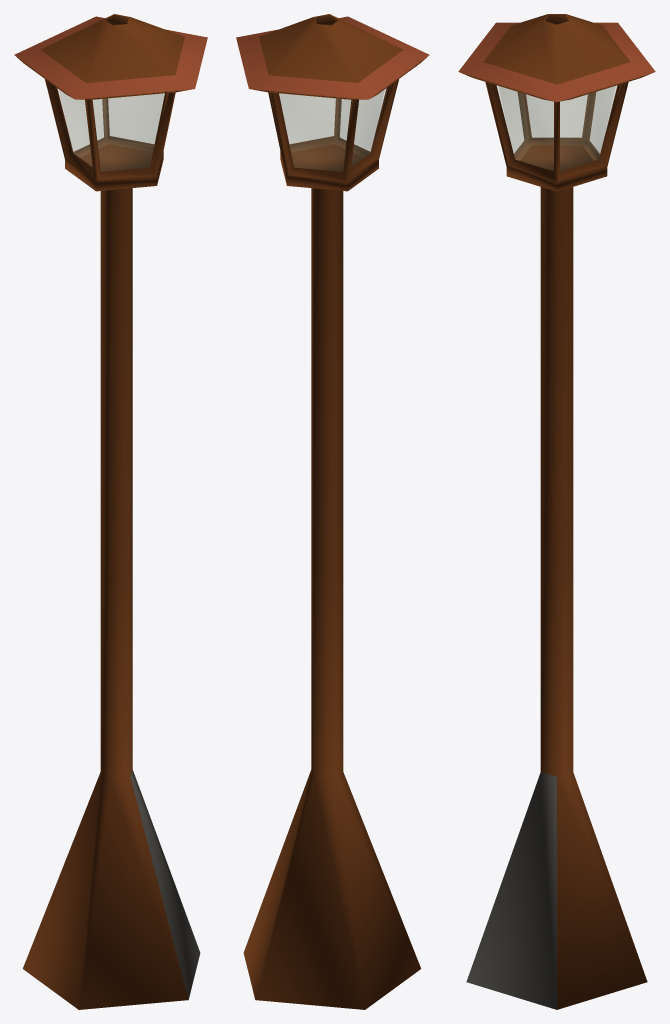
Rendered from lamp.obj.
The picture shows the model from 3 angles, left to right: view 1: azimuth 30°, elevation 25°; view 2: azimuth 150°, elevation 25°; view 3: azimuth 270°, elevation 25°; orthographic projection.
Parts seen in each view (by area): view 1: lamp; view 2: lamp; view 3: lamp.
Part boxes in pixels (<box>): lamp: <box>14,14,207,1009</box>; lamp: <box>236,14,429,1009</box>; lamp: <box>458,14,655,1009</box>.
Bounding box in the file's own units: 1.43 × 8 × 1.51.
